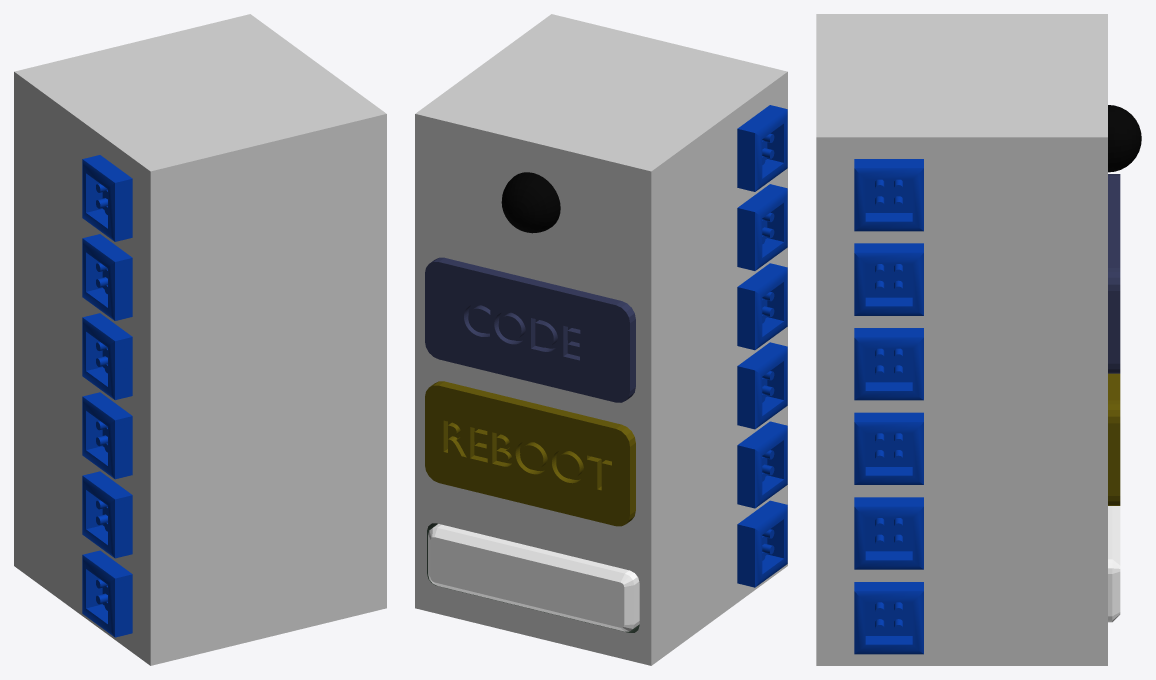
File: MiniComputer.gltf
3 renders of one model, left to right at view 1: azimuth 30°, elevation 25°; view 2: azimuth 150°, elevation 25°; view 3: azimuth 270°, elevation 25°, orthographic. The views are drawn at different scales.
Visible parts, largest first — view 1: console; view 2: console, hdd; view 3: console, hdd.
Boxes of the visible parts, x1,y1,x2,y2 form: console: (14,14,386,665); console: (415,14,787,665); hdd: (428,524,639,631); console: (816,14,1141,665); hdd: (1108,506,1120,622).
Bounding box in the file's own units: 0.2913 × 0.5 × 0.279.
